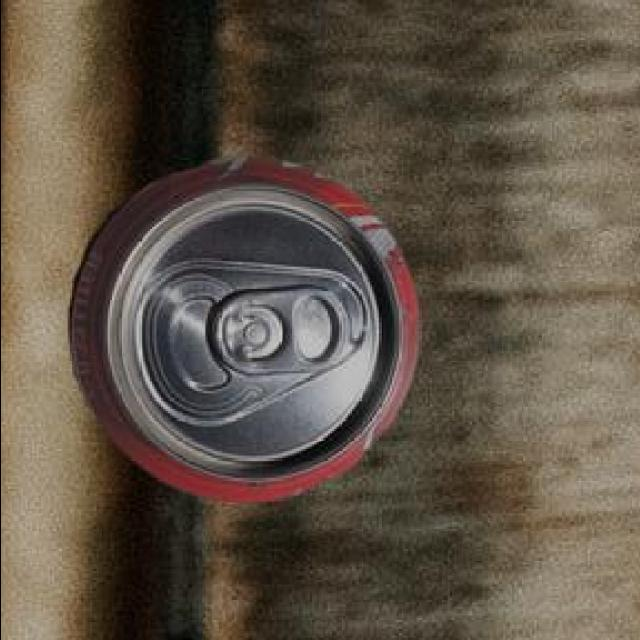logam: (66, 154, 414, 499)
